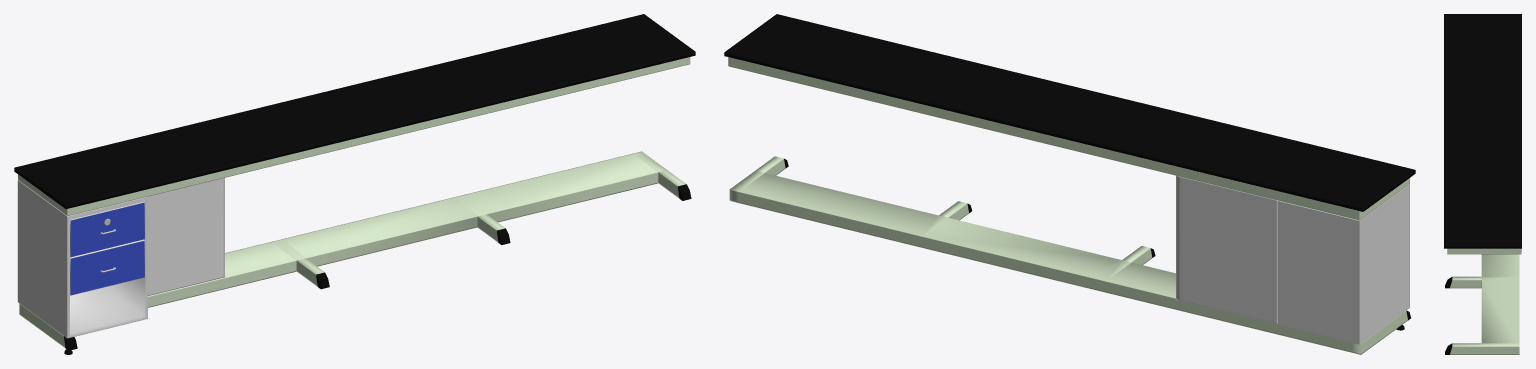
The picture shows the model from 3 angles, left to right: view 1: azimuth 30°, elevation 25°; view 2: azimuth 150°, elevation 25°; view 3: azimuth 270°, elevation 25°; orthographic projection. The views are drawn at different scales.
Parts seen in each view (by area): view 1: 001, 006, 003, 008, 002, 005, 004; view 2: 001, 006, 003, 008, 002; view 3: 001, 006, 002.
Boxes of the visible parts, bbox=[...] form: 001: bbox=[14, 14, 695, 208]; 006: bbox=[19, 151, 691, 350]; 003: bbox=[17, 180, 147, 338]; 008: bbox=[148, 178, 224, 295]; 002: bbox=[18, 57, 690, 215]; 005: bbox=[70, 239, 144, 295]; 004: bbox=[70, 201, 144, 257]; 001: bbox=[724, 14, 1415, 211]; 006: bbox=[729, 156, 1410, 354]; 003: bbox=[1278, 184, 1409, 344]; 008: bbox=[1176, 175, 1277, 324]; 002: bbox=[728, 57, 1409, 220]; 001: bbox=[1444, 14, 1521, 248]; 006: bbox=[1445, 254, 1519, 354]; 002: bbox=[1447, 248, 1521, 254].
Size of the model in its own units: 352 by 82.37 by 50.
